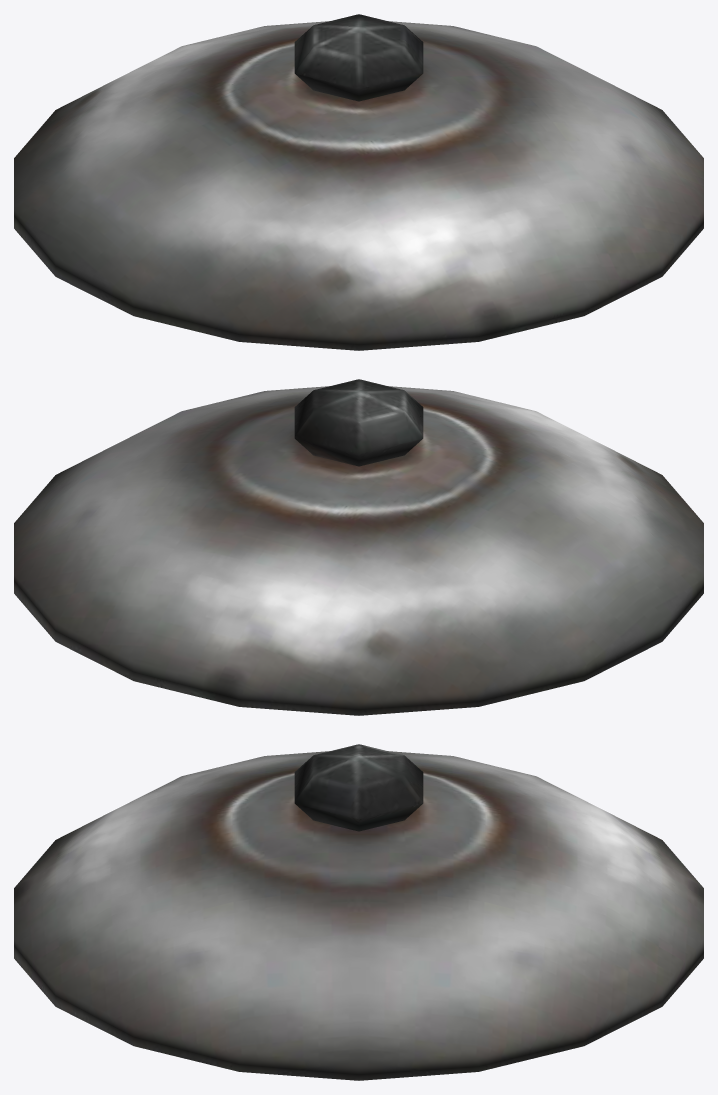
The model's file is SM_pan lid.gltf.
The picture shows the model from 3 angles, top to bottom: view 1: azimuth 30°, elevation 25°; view 2: azimuth 150°, elevation 25°; view 3: azimuth 270°, elevation 25°; orthographic projection.
Parts seen in each view (by area): view 1: SM_pan lid; view 2: SM_pan lid; view 3: SM_pan lid.
Part boxes in pixels (box(x1,y1,x2,y2)): SM_pan lid: box(14, 14, 703, 350); SM_pan lid: box(14, 379, 703, 715); SM_pan lid: box(14, 744, 703, 1080).
Size of the model in its own units: 0.375 by 0.1036 by 0.3693.
Materials: 1 (1 with a texture image).
